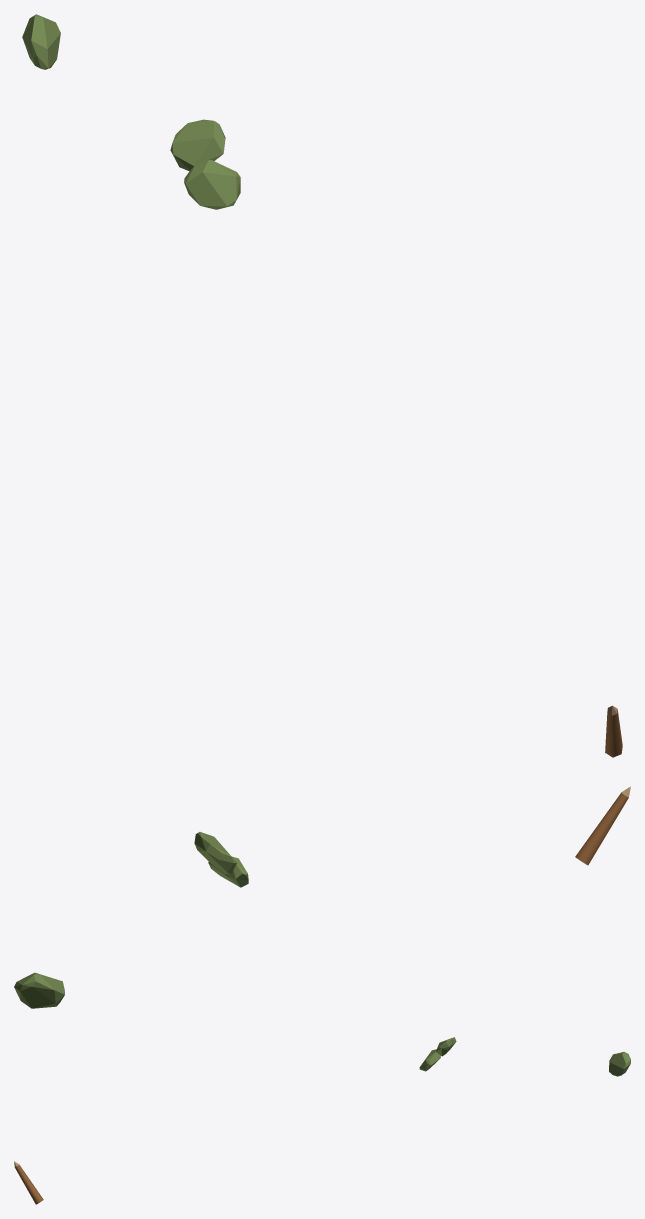
3 renders of one model, top to bottom at view 1: azimuth 30°, elevation 25°; view 2: azimuth 150°, elevation 25°; view 3: azimuth 270°, elevation 25°, orthographic. The views are drawn at different scales.
Parts seen in each view (by area): view 1: Box094_green3_0, Box093_green3_0, Box643_green3_0; view 2: Box643_green3_0, Cylinder1640_brown_0, Box093_green3_0, Box094_green3_0; view 3: Box643_green3_0, Cylinder1640_brown_0.
Boxes of the visible parts, left/top/right/bottom form: Box094_green3_0: left=184, top=160, right=240, bottom=209; Box093_green3_0: left=170, top=119, right=225, bottom=171; Box643_green3_0: left=22, top=14, right=60, bottom=69; Box643_green3_0: left=14, top=972, right=64, bottom=1008; Cylinder1640_brown_0: left=575, top=793, right=628, bottom=865; Box093_green3_0: left=194, top=832, right=236, bottom=874; Box094_green3_0: left=208, top=856, right=248, bottom=887; Box643_green3_0: left=609, top=1052, right=630, bottom=1076; Cylinder1640_brown_0: left=15, top=1164, right=43, bottom=1204.
Bounding box in the file's own units: 95.96 × 479 × 1604.
